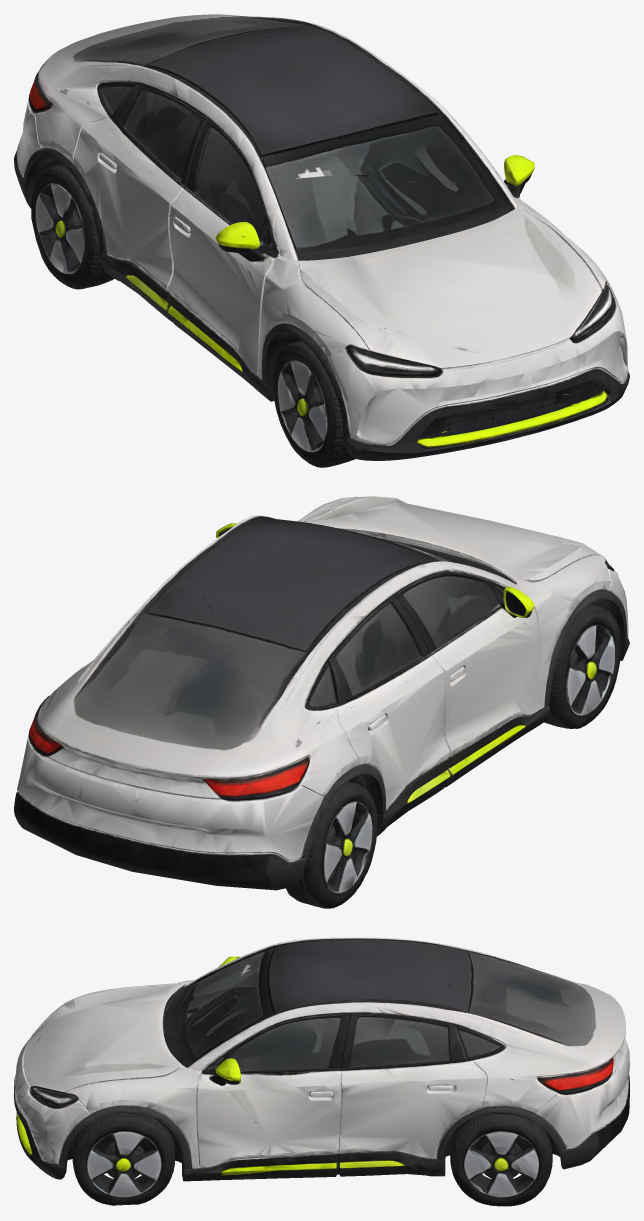
Rendered from sedan.glb.
The picture shows the model from 3 angles, top to bottom: view 1: azimuth 30°, elevation 25°; view 2: azimuth 150°, elevation 25°; view 3: azimuth 270°, elevation 25°; orthographic projection. The views are drawn at different scales.
Parts seen in each view (by area): view 1: model; view 2: model; view 3: model.
Boxes of the visible parts, bbox=[...] form: model: bbox=[14, 14, 629, 467]; model: bbox=[14, 496, 629, 908]; model: bbox=[14, 937, 629, 1206].
Size of the model in its own units: 0.873 by 0.6358 by 1.9.
1 material, 1 textured.
